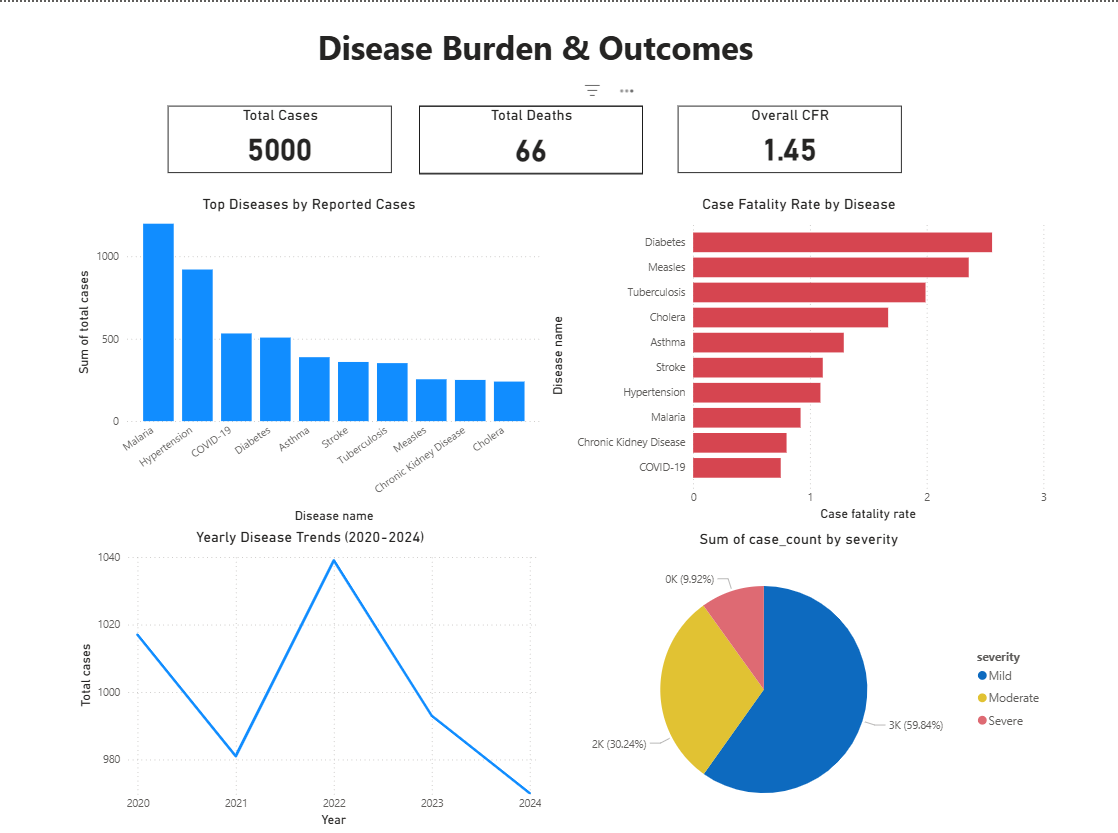

Layout of this report page (visuals, bound fields, positions):
{"tool":"powerbi","page":{"name":"Page 1","canvas":[1280,950],"ordinal":0},"visuals":[{"type":"clusteredColumnChart","title":"Top Diseases by Reported Cases","fields":{"Category":["vw_disease_incidence.disease_name"],"Y":["Sum(vw_disease_incidence.total_cases)"]},"box":[84.3,220,540,380],"z":0},{"type":"clusteredBarChart","title":"Case Fatality Rate by Disease","fields":{"Category":["vw_disease_incidence.disease_name"],"Y":["Avg(vw_case_fatality_rate.case_fatality_rate_pct)"]},"box":[625.7,220,577.1,378.6],"z":1000},{"type":"lineChart","title":"Yearly Disease Trends (2020-2024)","fields":{"Y":["Sum(vw_monthly_cases.total_cases)"],"Category":["vw_monthly_cases.year_month.Variation.Date Hierarchy.Year"]},"box":[86.1,601.3,539.1,346.9],"z":2000},{"type":"pieChart","fields":{"Category":["vw_severity_distribution.severity"],"Y":["Sum(vw_severity_distribution.case_count)"]},"box":[625.7,602.9,577.1,347.1],"z":3000},{"type":"card","title":"Total Cases","fields":{"Values":["Sum(vw_monthly_cases.total_cases)"]},"box":[192.9,118.6,255.7,77.1],"z":4000},{"type":"card","title":"Total Deaths","fields":{"Values":["vw_case_fatality_rate.Total Deaths"]},"box":[480,118.4,256,78],"z":5000},{"type":"card","title":"Overall CFR","fields":{"Values":["Avg(vw_case_fatality_rate.case_fatality_rate_pct)"]},"box":[775.7,118.6,255.7,77.1],"z":6000},{"type":"textbox","title":"Disease Burden & Outcomes","box":[342.9,21.4,540,72.9],"z":7000}]}

Visuals, with their boxes in screenshot pixels (x1, y1, x2, y2), scaled from the page's 1280x950 canvas onto the 1118x833 screenshot:
"Top Diseases by Reported Cases" clusteredColumnChart: l=74, t=193, r=545, b=526
"Case Fatality Rate by Disease" clusteredBarChart: l=547, t=193, r=1051, b=525
"Yearly Disease Trends (2020-2024)" lineChart: l=75, t=527, r=546, b=831
pieChart - vw_severity_distribution.severity x Sum(vw_severity_distribution.case_count): l=547, t=529, r=1051, b=832
"Total Cases" card: l=168, t=104, r=392, b=172
"Total Deaths" card: l=419, t=104, r=643, b=172
"Overall CFR" card: l=678, t=104, r=901, b=172
"Disease Burden & Outcomes" textbox: l=300, t=19, r=771, b=83
